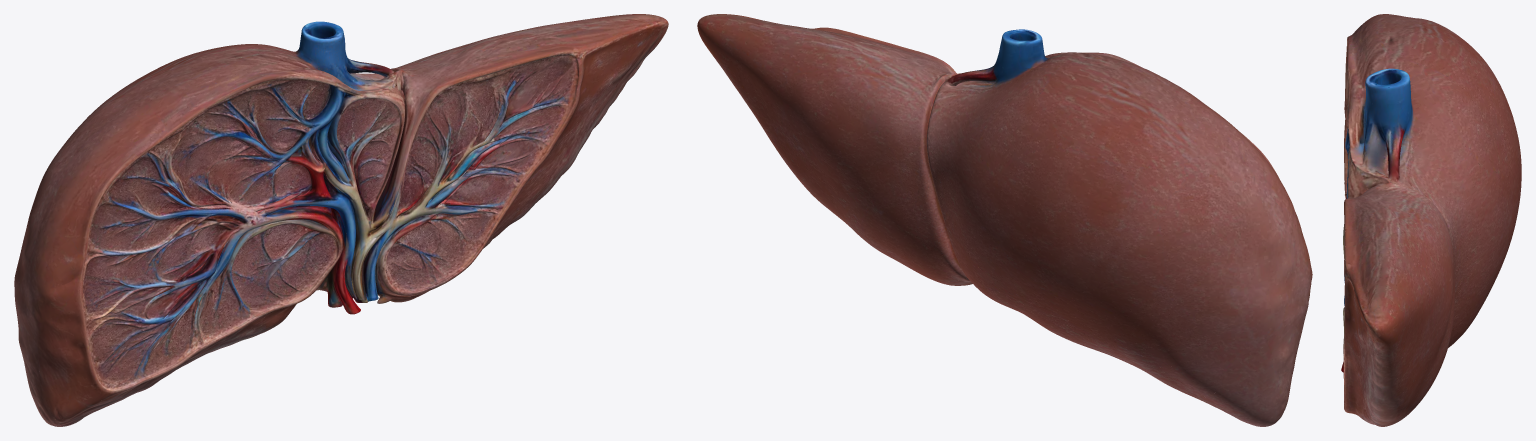
Rendered from liver.glb.
The picture shows the model from 3 angles, left to right: view 1: azimuth 30°, elevation 25°; view 2: azimuth 150°, elevation 25°; view 3: azimuth 270°, elevation 25°; orthographic projection. The views are drawn at different scales.
Parts seen in each view (by area): view 1: liver; view 2: liver; view 3: liver.
Part boxes in pixels (left/top/right/bottom): liver: left=14, top=14, right=668, bottom=426; liver: left=697, top=14, right=1312, bottom=426; liver: left=1341, top=14, right=1521, bottom=426.
Bounding box in the file's own units: 1.14 × 0.5813 × 0.2648.
1 material, 1 textured.
